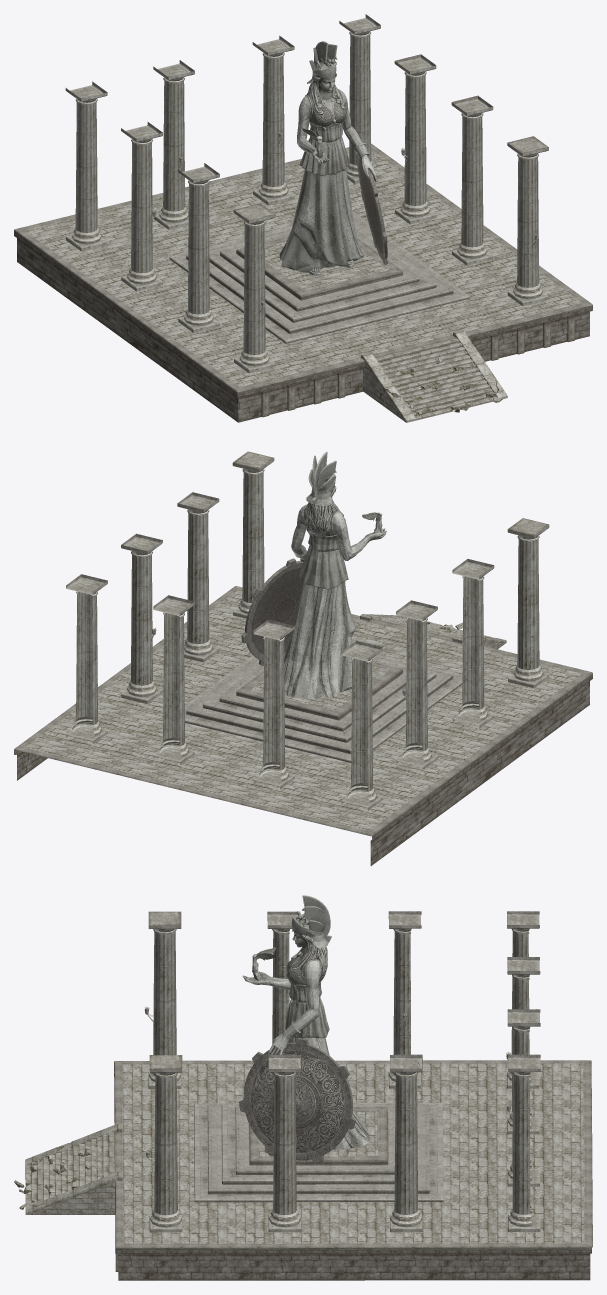
File: stat2.obj
3 renders of one model, top to bottom at view 1: azimuth 30°, elevation 25°; view 2: azimuth 150°, elevation 25°; view 3: azimuth 270°, elevation 25°, orthographic. The views are drawn at different scales.
Parts seen in each view (by area): view 1: athenass_athenass_material_60.001_ad9d811b.png, athenass_athenass_material_121_083f6969.png, athenass_athenass_material_78_c578b272.png, athenass_athenass_material_61_dd9cfbed.png, athenass_athenass_material_130_71756365.png, athenass_athenass_material_122_20f327cb.png, athenass_athenass_material_120_b46b6050.png, athenass_athenass_material_79_ee1367d1.png, athenass_athenass_material_65_dfde3e6b.png; view 2: athenass_athenass_material_60.001_ad9d811b.png, athenass_athenass_material_121_083f6969.png, athenass_athenass_material_78_c578b272.png, athenass_athenass_material_61_dd9cfbed.png, athenass_athenass_material_122_20f327cb.png, athenass_athenass_material_130_71756365.png, athenass_athenass_material_120_b46b6050.png, athenass_athenass_material_79_ee1367d1.png; view 3: athenass_athenass_material_60.001_ad9d811b.png, athenass_athenass_material_78_c578b272.png, athenass_athenass_material_121_083f6969.png, athenass_athenass_material_130_71756365.png, athenass_athenass_material_122_20f327cb.png, athenass_athenass_material_79_ee1367d1.png, athenass_athenass_material_61_dd9cfbed.png, athenass_athenass_material_120_b46b6050.png, athenass_athenass_material_65_dfde3e6b.png.
Part boxes in pixels (left/top/right/bottom): athenass_athenass_material_60.001_ad9d811b.png: left=25, top=150, right=582, bottom=422; athenass_athenass_material_121_083f6969.png: left=75, top=35, right=539, bottom=354; athenass_athenass_material_78_c578b272.png: left=14, top=143, right=592, bottom=394; athenass_athenass_material_61_dd9cfbed.png: left=279, top=41, right=376, bottom=275; athenass_athenass_material_130_71756365.png: left=14, top=233, right=592, bottom=422; athenass_athenass_material_122_20f327cb.png: left=65, top=14, right=548, bottom=373; athenass_athenass_material_120_b46b6050.png: left=71, top=21, right=574, bottom=417; athenass_athenass_material_79_ee1367d1.png: left=355, top=152, right=387, bottom=264; athenass_athenass_material_65_dfde3e6b.png: left=379, top=358, right=502, bottom=415; athenass_athenass_material_60.001_ad9d811b.png: left=25, top=590, right=581, bottom=830; athenass_athenass_material_121_083f6969.png: left=76, top=472, right=539, bottom=791; athenass_athenass_material_78_c578b272.png: left=14, top=586, right=592, bottom=837; athenass_athenass_material_61_dd9cfbed.png: left=284, top=451, right=386, bottom=699; athenass_athenass_material_122_20f327cb.png: left=66, top=451, right=549, bottom=810; athenass_athenass_material_130_71756365.png: left=14, top=675, right=592, bottom=865; athenass_athenass_material_120_b46b6050.png: left=72, top=468, right=543, bottom=802; athenass_athenass_material_79_ee1367d1.png: left=241, top=558, right=303, bottom=665; athenass_athenass_material_60.001_ad9d811b.png: left=14, top=1063, right=584, bottom=1243; athenass_athenass_material_78_c578b272.png: left=114, top=1060, right=592, bottom=1250; athenass_athenass_material_121_083f6969.png: left=153, top=931, right=530, bottom=1215; athenass_athenass_material_130_71756365.png: left=114, top=1073, right=591, bottom=1280; athenass_athenass_material_122_20f327cb.png: left=148, top=911, right=540, bottom=1232; athenass_athenass_material_79_ee1367d1.png: left=239, top=1038, right=355, bottom=1163; athenass_athenass_material_61_dd9cfbed.png: left=242, top=895, right=370, bottom=1149; athenass_athenass_material_120_b46b6050.png: left=115, top=916, right=532, bottom=1271; athenass_athenass_material_65_dfde3e6b.png: left=14, top=1143, right=92, bottom=1209.
Bounding box in the file's own units: 37.35 × 27.27 × 48.78.
Materials: 10 (10 with a texture image).
